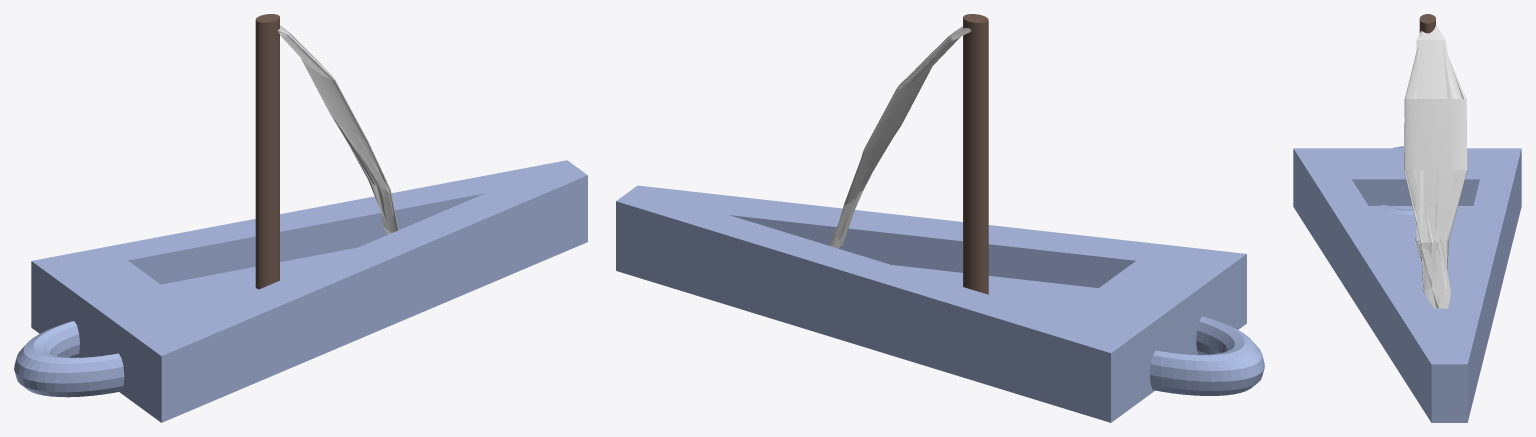
File: ship_soap_NEW.fbx
3 views of the same model, side by side, from view 1: azimuth 30°, elevation 25°; view 2: azimuth 150°, elevation 25°; view 3: azimuth 270°, elevation 25° (orthographic). The views are drawn at different scales.
Visible parts, largest first — view 1: Cube_Cube.003; view 2: Cube_Cube.003; view 3: Cube_Cube.003.
Part boxes in pixels (<box>): Cube_Cube.003: <box>14,14,587,422</box>; Cube_Cube.003: <box>616,14,1264,422</box>; Cube_Cube.003: <box>1293,14,1521,422</box>.
Bounding box in the file's own units: 4.01 × 2 × 1.55.
